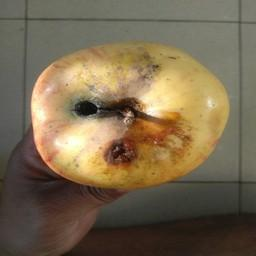Bad_apple: (28, 37, 232, 190)
